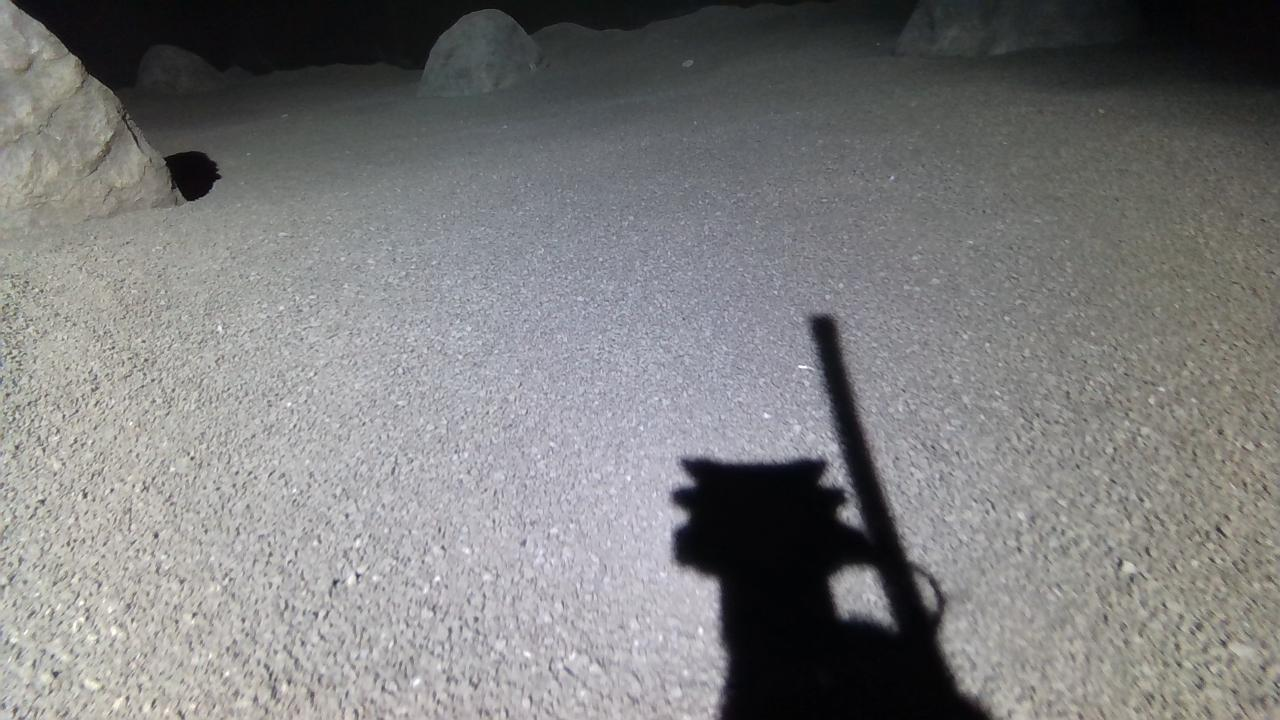rock: (0, 0, 179, 232), (897, 0, 1143, 56), (417, 8, 541, 95), (135, 43, 224, 92)
